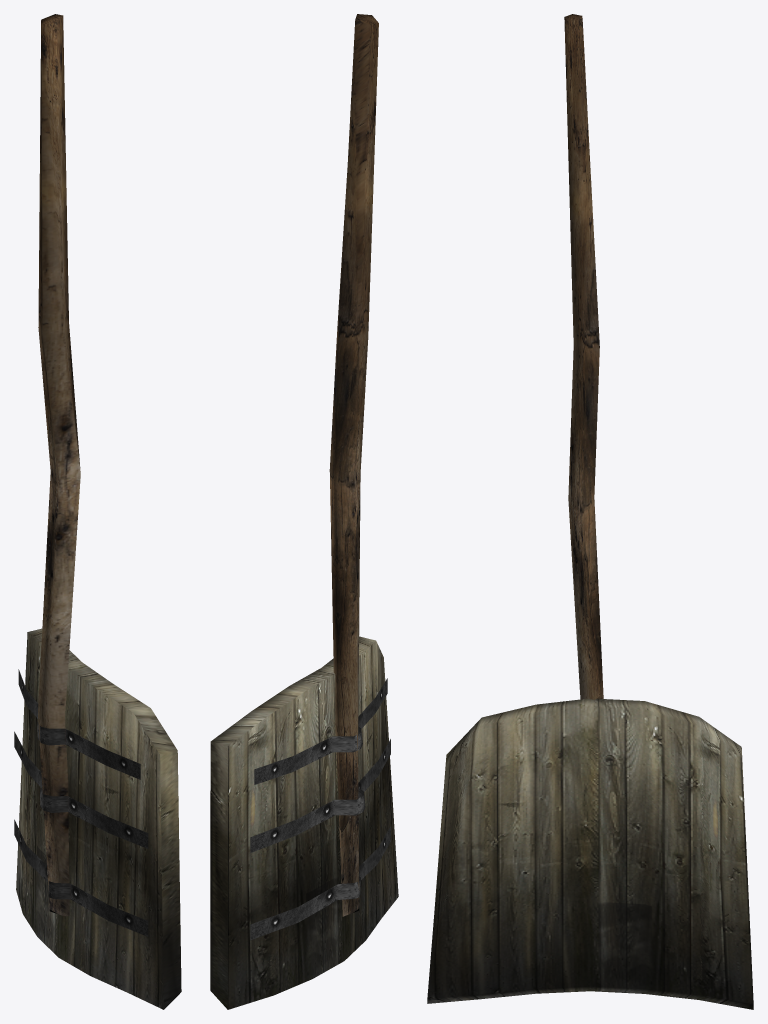
The model's file is lopata.fbx.
3 views of the same model, side by side, from view 1: azimuth 30°, elevation 25°; view 2: azimuth 150°, elevation 25°; view 3: azimuth 270°, elevation 25° (orthographic). The views are drawn at different scales.
Visible parts, largest first — view 1: metal; view 2: metal; view 3: metal.
Part boxes in pixels (x1,y1,x2,y2): metal: [14, 14, 181, 1009]; metal: [210, 14, 398, 1009]; metal: [427, 14, 753, 1009].
Size of the model in its own units: 0.6272 by 6.55 by 2.
